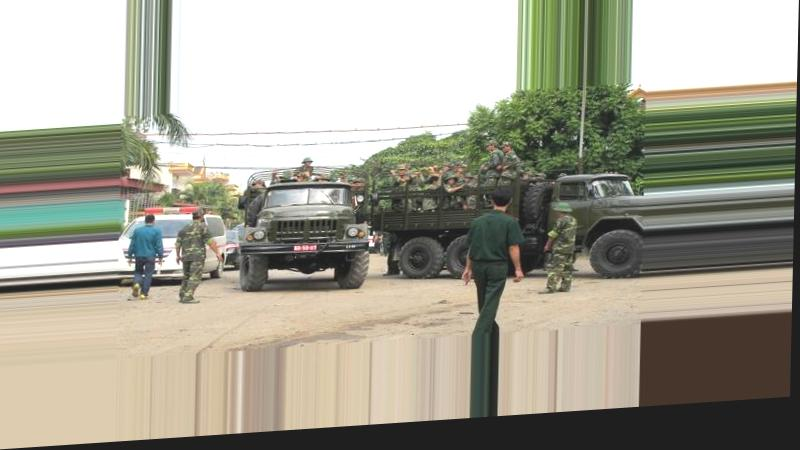License_Plate: (293, 242, 318, 256)
